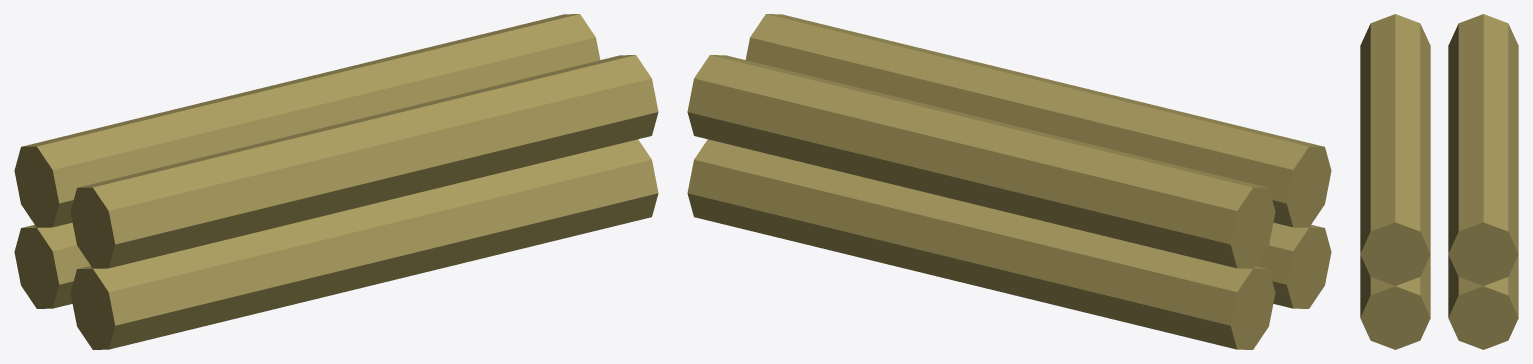
File: prop_bundle_1.glb
3 renders of one model, left to right at view 1: azimuth 30°, elevation 25°; view 2: azimuth 150°, elevation 25°; view 3: azimuth 270°, elevation 25°, orthographic. The views are drawn at different scales.
Visible parts, largest first — view 1: PROP_Bundle_1; view 2: PROP_Bundle_1; view 3: PROP_Bundle_1.
Boxes of the visible parts, <box> form: PROP_Bundle_1: <box>14,14,658,349</box>; PROP_Bundle_1: <box>687,14,1331,349</box>; PROP_Bundle_1: <box>1360,14,1518,349</box>.
Bounding box in the file's own units: 0.56 × 0.16 × 0.18.
